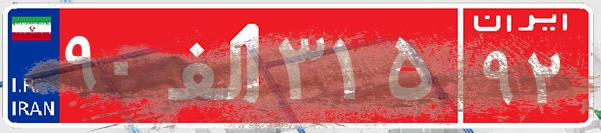0: (110, 28, 158, 105)
1: (330, 28, 385, 110)
2: (525, 38, 570, 115)
3: (273, 28, 330, 110)
5: (385, 28, 445, 110)
9: (57, 26, 110, 107), (475, 38, 525, 113)
الف: (158, 15, 273, 115)
